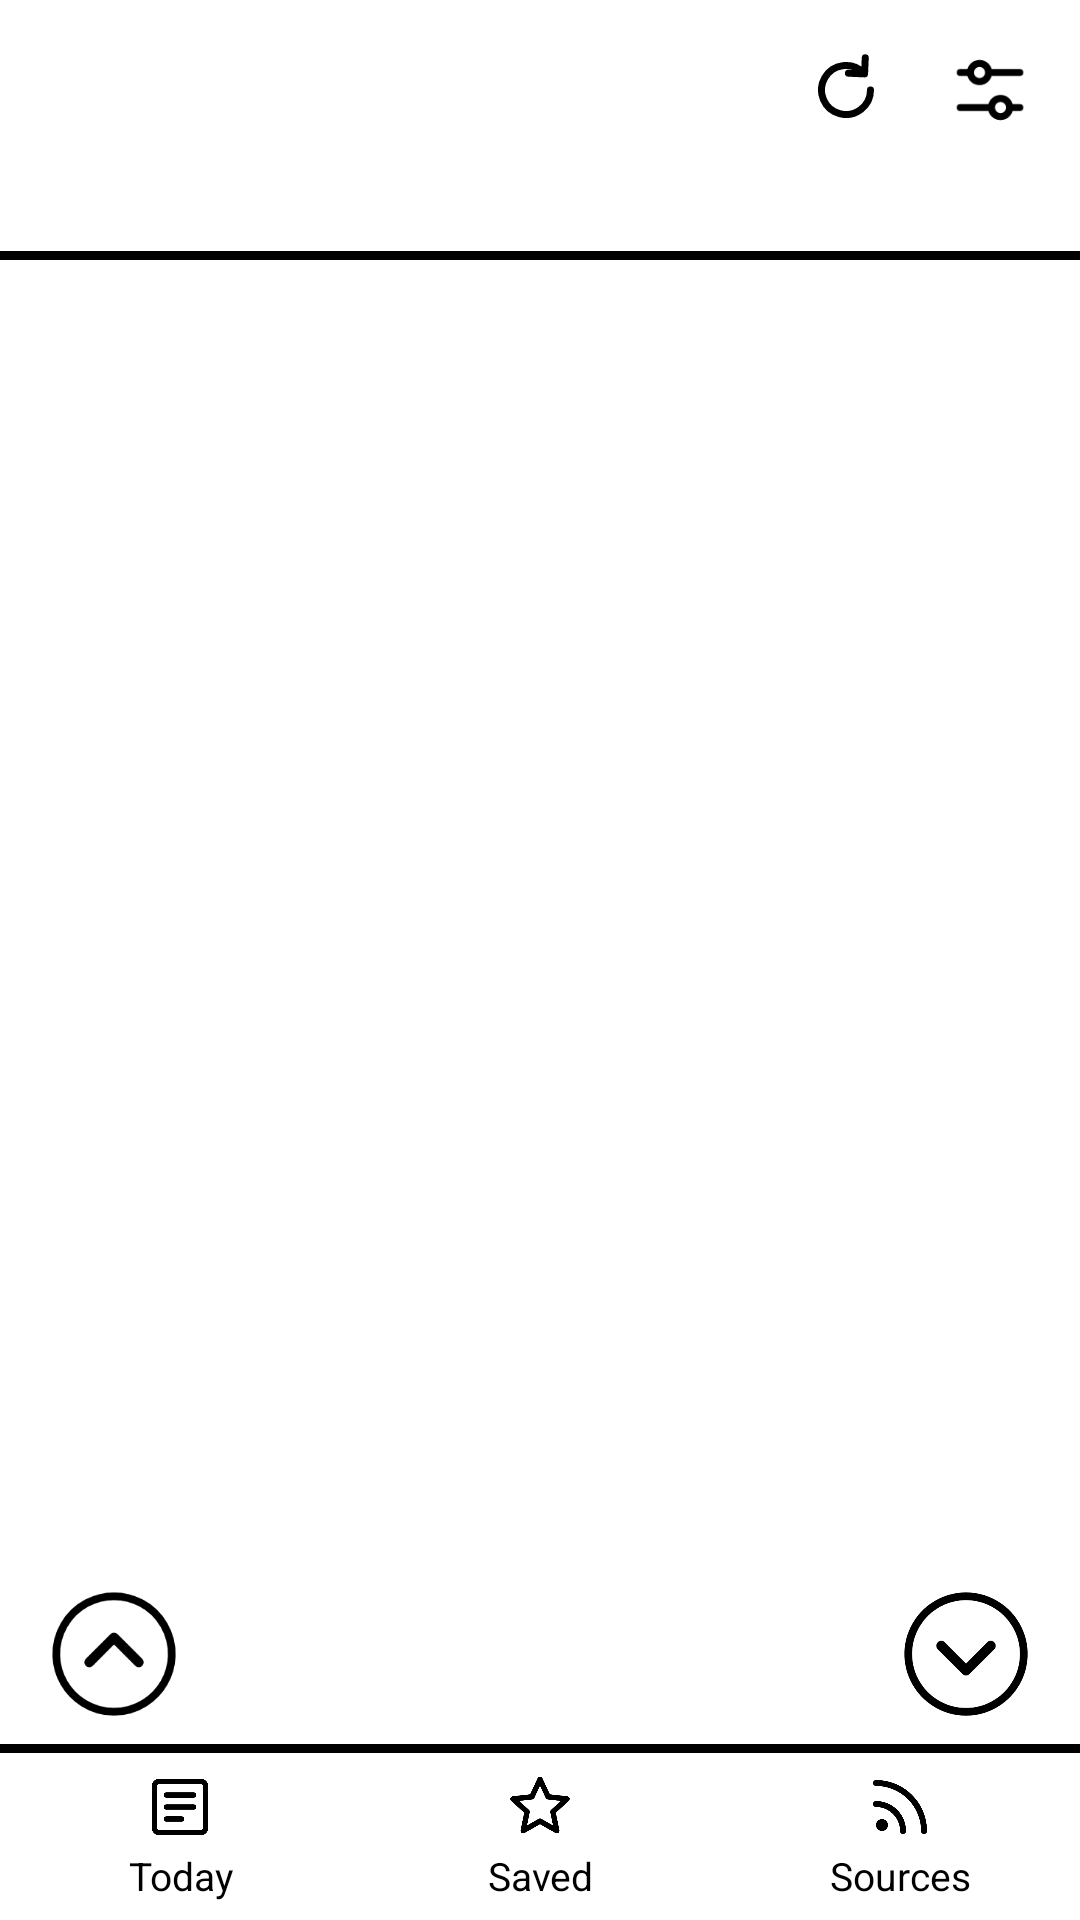

Where icons sit on this 1080x1920 app screen, as [x1, y1, x2, y2]:
Next page: [904, 1592, 1028, 1716]
Previous page: [52, 1592, 176, 1716]
Refresh: [818, 54, 874, 118]
Settings: [956, 59, 1024, 121]
